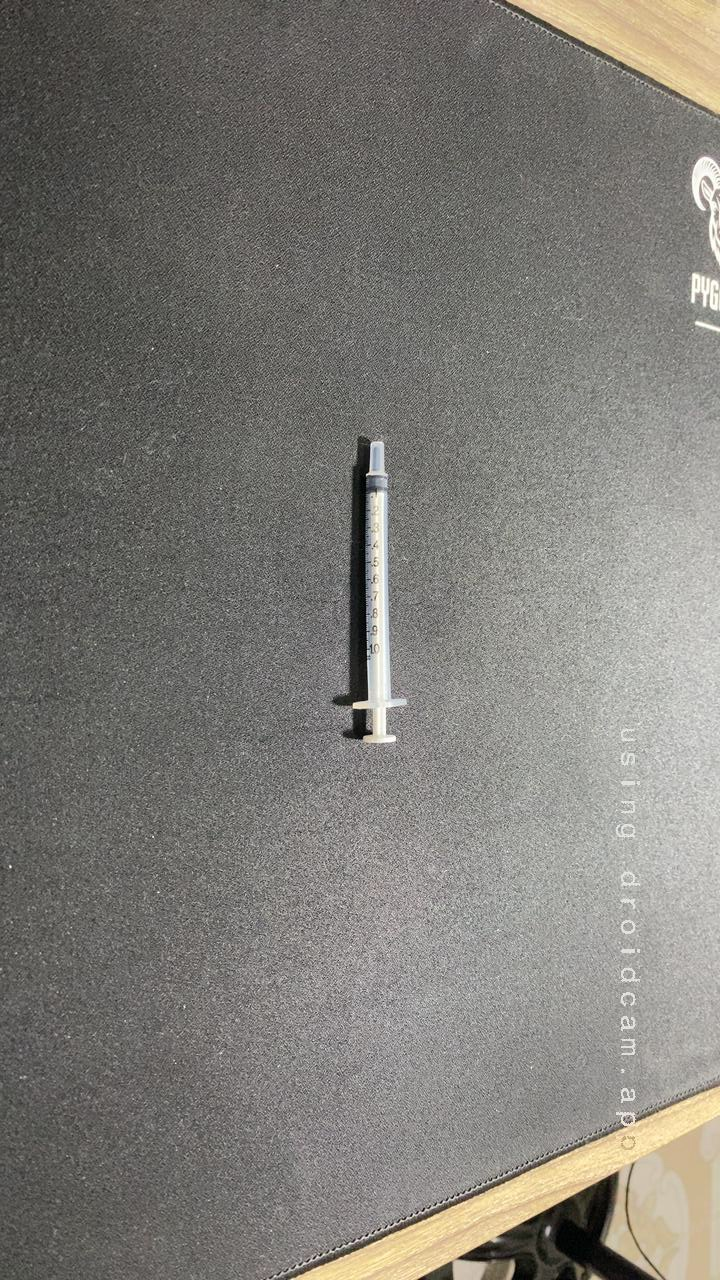syringe: (309, 430, 428, 752)
